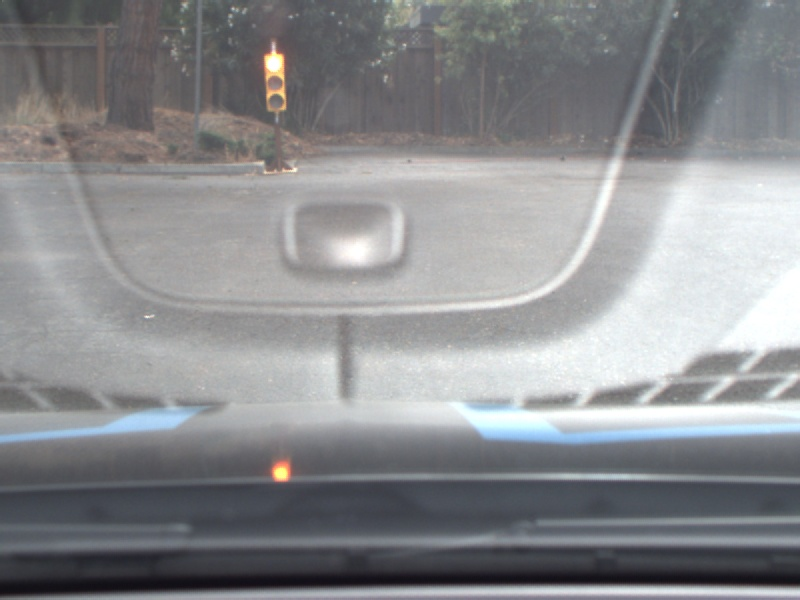red: (262, 46, 288, 112)
